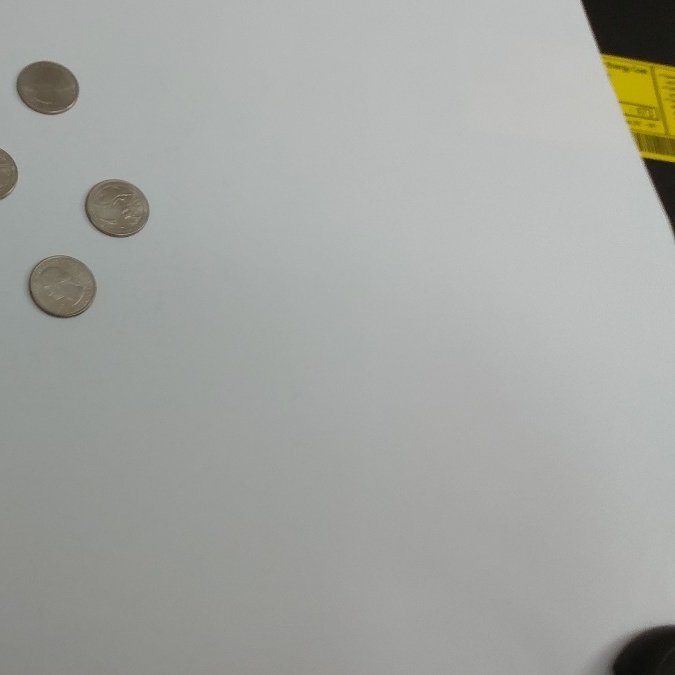coin_quarter: (26, 248, 100, 324), (14, 53, 80, 117), (84, 175, 150, 239)
